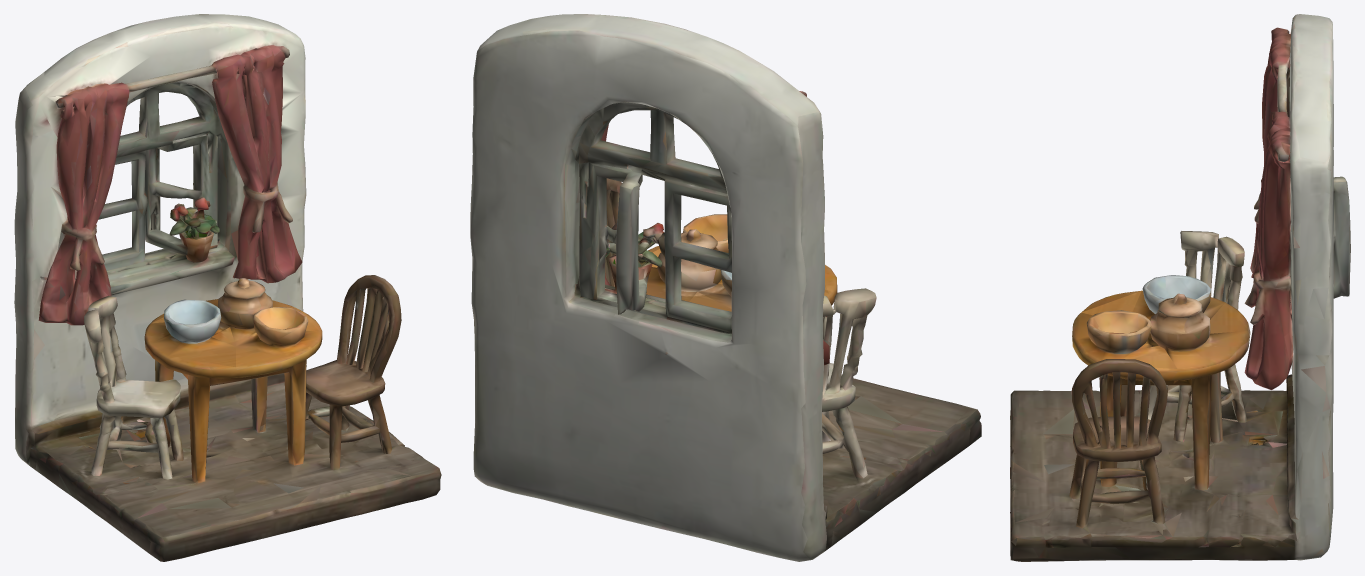
Rendered from sc-kitchen-window.glb.
The picture shows the model from 3 angles, left to right: view 1: azimuth 30°, elevation 25°; view 2: azimuth 150°, elevation 25°; view 3: azimuth 270°, elevation 25°; orthographic projection. The views are drawn at different scales.
Parts seen in each view (by area): view 1: geometry_0; view 2: geometry_0; view 3: geometry_0.
Part boxes in pixels (bbox=[...]): geometry_0: bbox=[14, 14, 441, 561]; geometry_0: bbox=[470, 14, 981, 561]; geometry_0: bbox=[1010, 14, 1350, 561].
Size of the model in its own units: 0.7415 by 1 by 0.699.
Materials: 1 (1 with a texture image).
